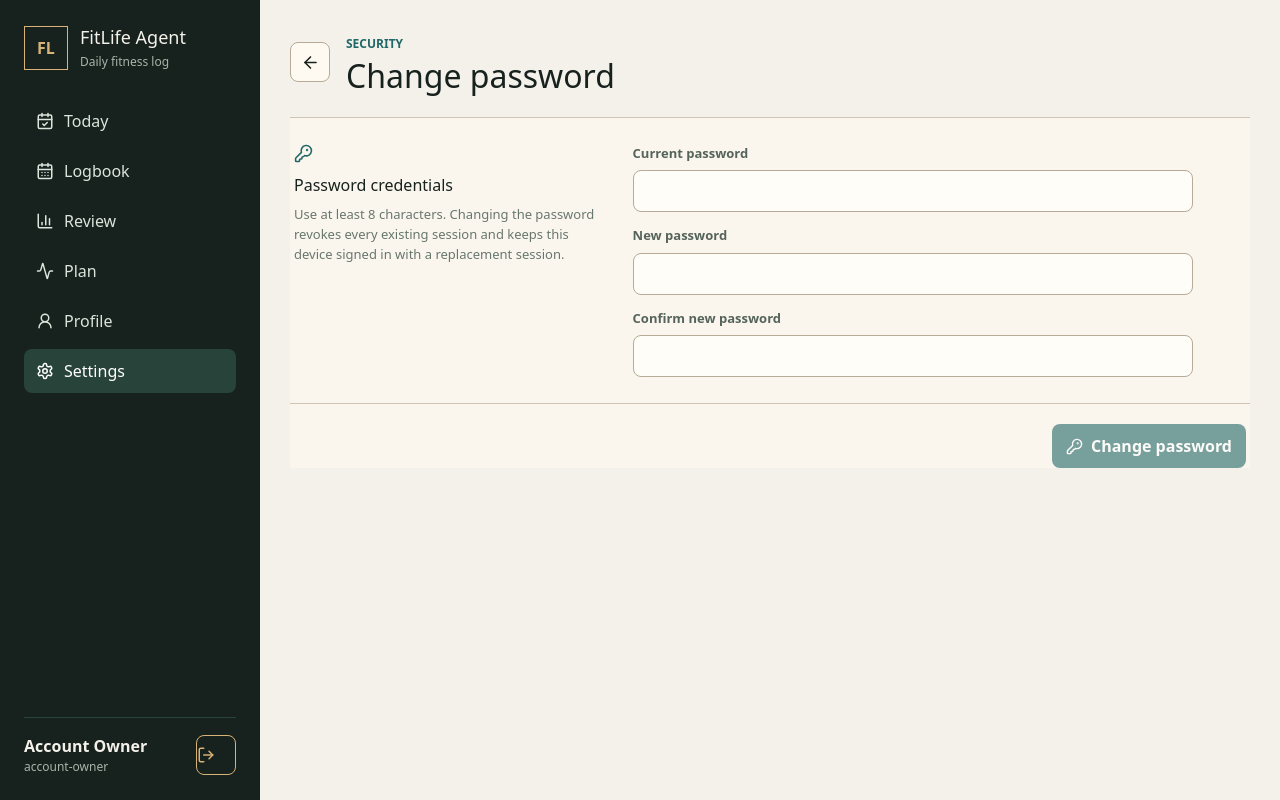
changes the password without persisting secrets and adopts the replacement session
Type "password123" into the password field labelled "Current password".
click(913, 191); type("password123")  # box x1=633 y1=170 x2=1193 y2=212
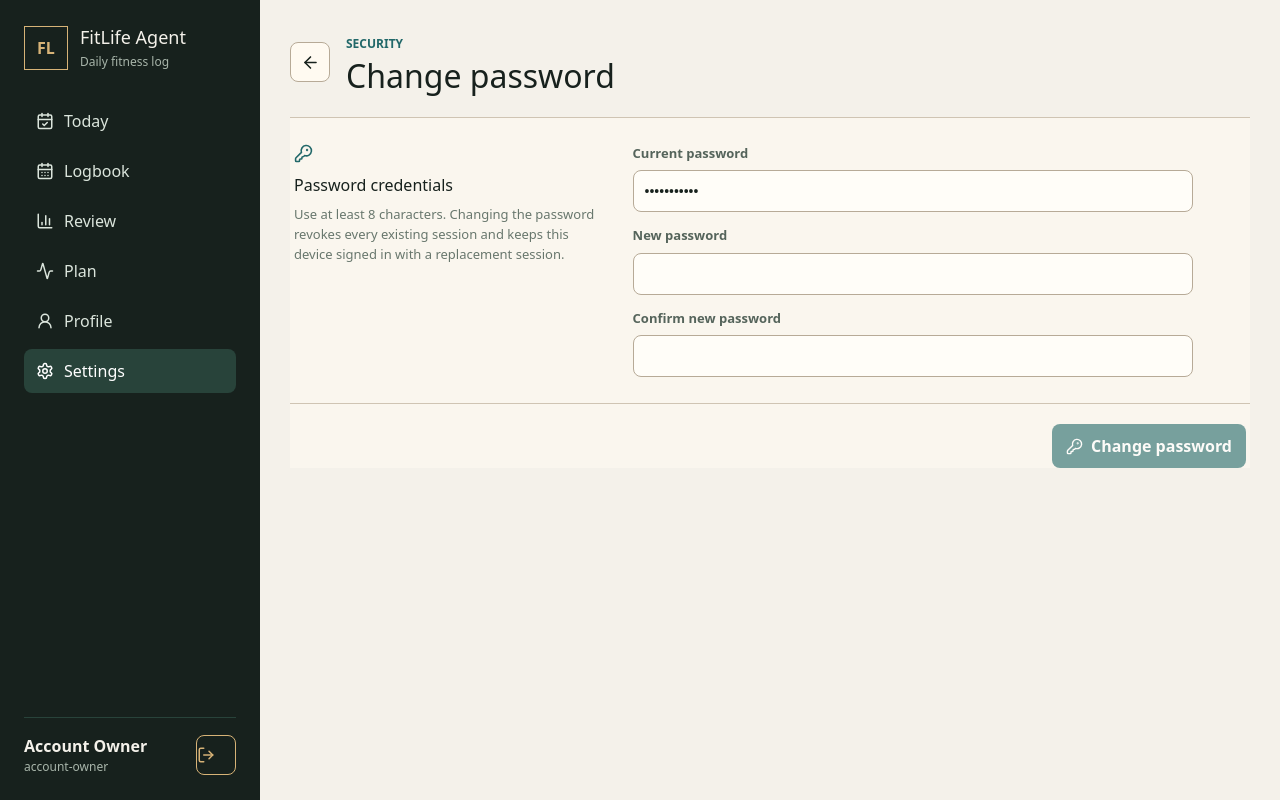
Type "replacement123" into the password field labelled "New password".
click(913, 274); type("replacement123")  # box x1=633 y1=253 x2=1193 y2=295
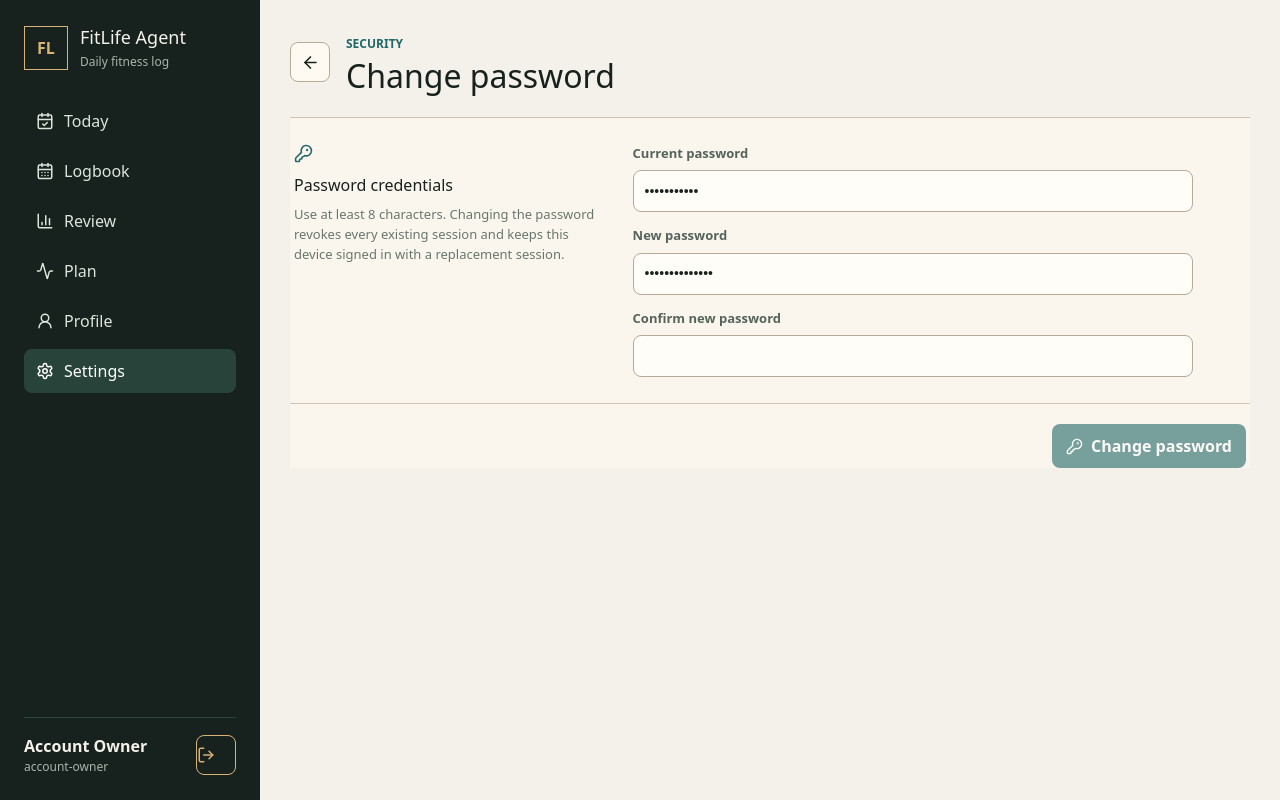
Type "replacement123" into the password field labelled "Confirm new password".
click(913, 356); type("replacement123")  # box x1=633 y1=335 x2=1193 y2=377
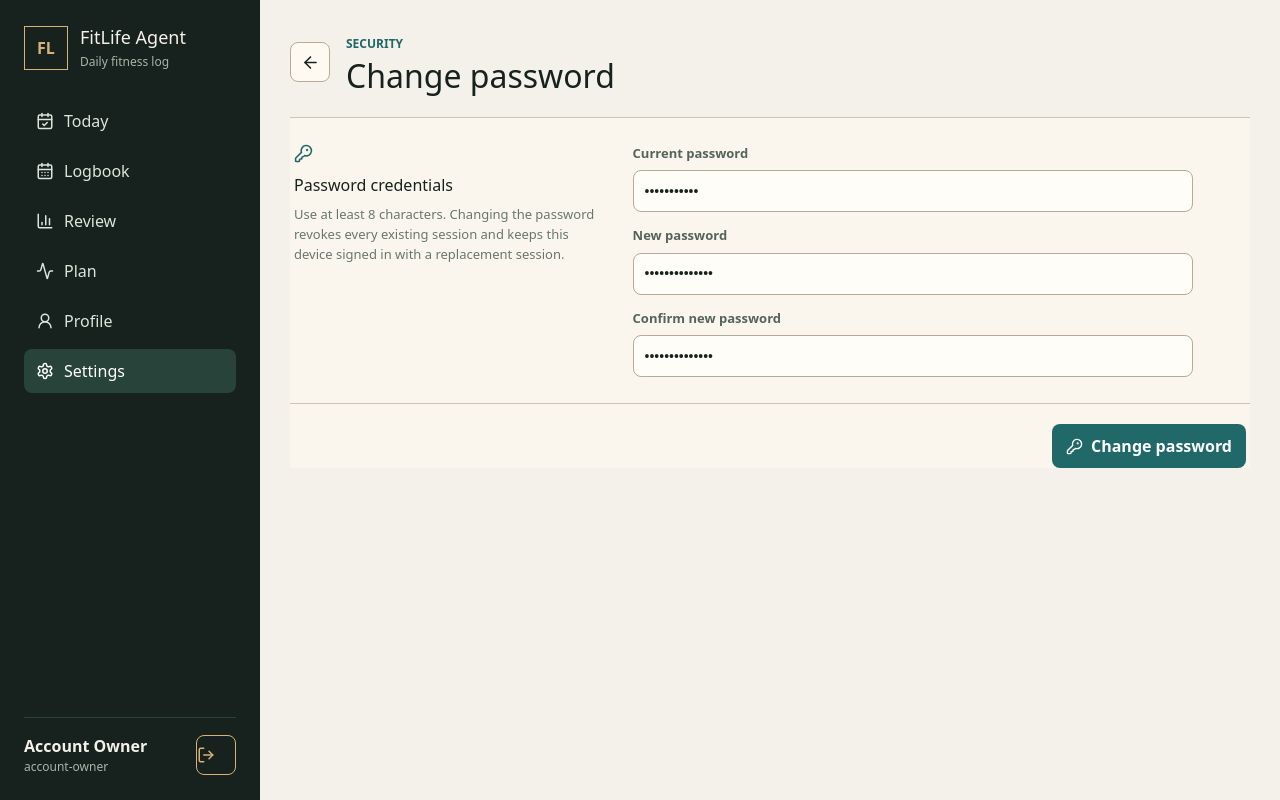
Submit the form named "Change password", box x1=290 y1=117 x2=1250 y2=468
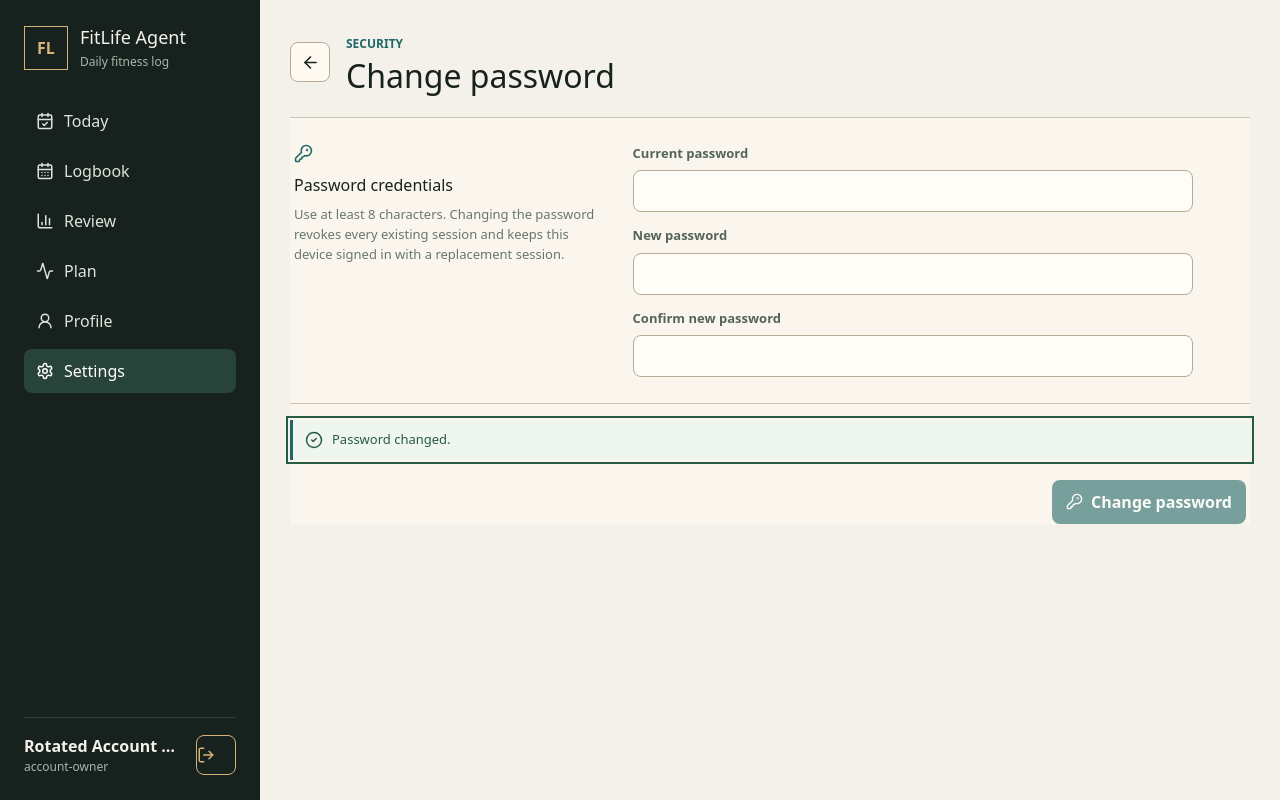
Check: the message shows "Password changed", box x1=332 y1=430 x2=451 y2=448
Check: the text "Rotated Account Owner" is shown, box x1=24 y1=734 x2=186 y2=758
Check: the password field labelled "Current password" is empty, box x1=633 y1=170 x2=1193 y2=212
